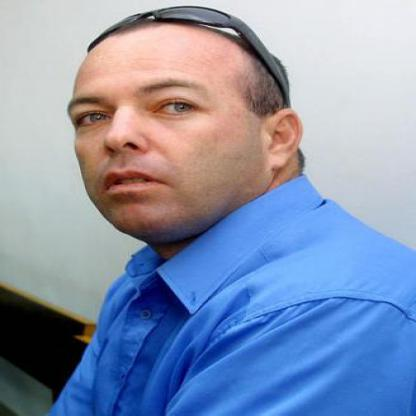face: (66, 17, 264, 243)
